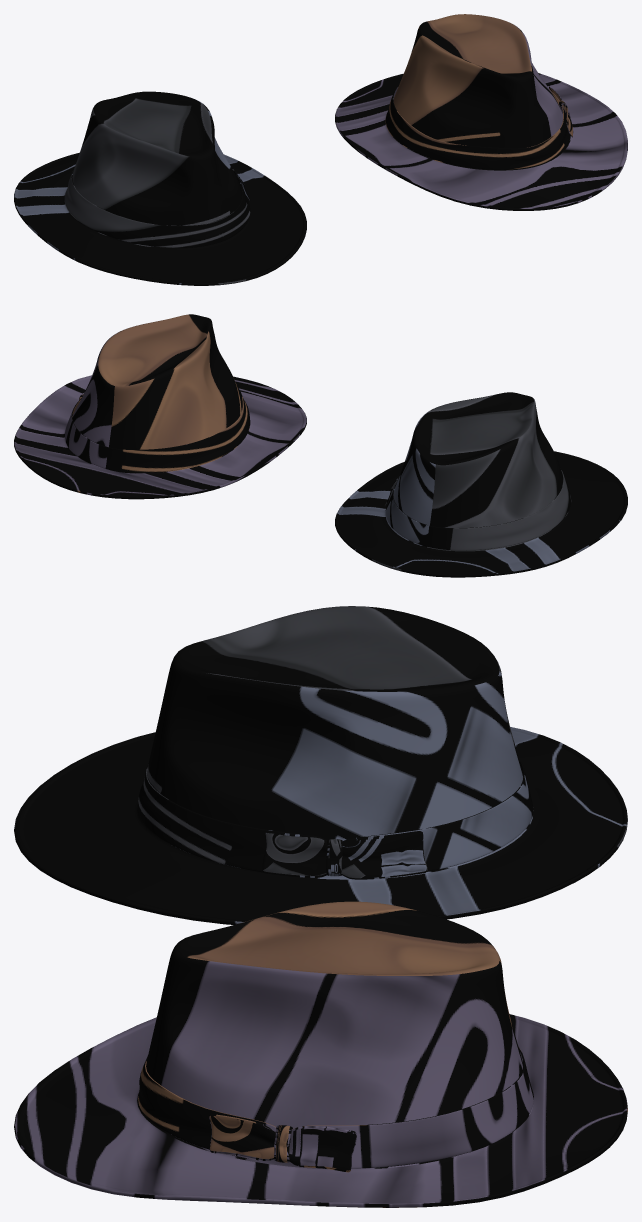
Rendered from Hats.fbx.
The picture shows the model from 3 angles, top to bottom: view 1: azimuth 30°, elevation 25°; view 2: azimuth 150°, elevation 25°; view 3: azimuth 270°, elevation 25°; orthographic projection. The views are drawn at different scales.
Visible parts, largest first — view 1: hat1, hat4, Circle.012, Circle.009; view 2: hat1, hat4, Circle.009, Circle.012; view 3: hat1, hat4, Circle.009, Circle.012, Circle.003, Circle.013.
Boxes of the visible parts, x1=… form: hat1: x1=14, y1=91, x2=306, y2=285; hat4: x1=335, y1=14, x2=627, y2=210; Circle.012: x1=64, y1=168, x2=250, y2=247; Circle.009: x1=385, y1=85, x2=570, y2=169; hat1: x1=335, y1=392, x2=627, y2=577; hat4: x1=14, y1=314, x2=306, y2=499; Circle.009: x1=65, y1=387, x2=250, y2=473; Circle.012: x1=385, y1=469, x2=571, y2=550; hat1: x1=14, y1=606, x2=627, y2=924; hat4: x1=14, y1=901, x2=627, y2=1207; Circle.009: x1=138, y1=1047, x2=533, y2=1168; Circle.012: x1=138, y1=757, x2=533, y2=872; Circle.003: x1=262, y1=831, x2=427, y2=879; Circle.013: x1=209, y1=1114, x2=356, y2=1172.
Size of the model in its own units: 689 by 123 by 358.
2 materials, 2 textured.
